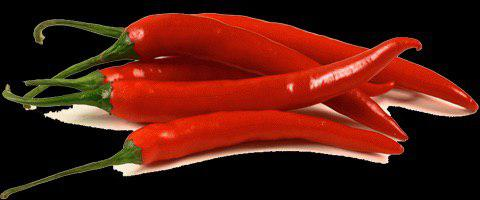lada merah: (119, 11, 414, 145), (104, 33, 427, 125), (204, 7, 477, 113), (126, 114, 409, 172)
